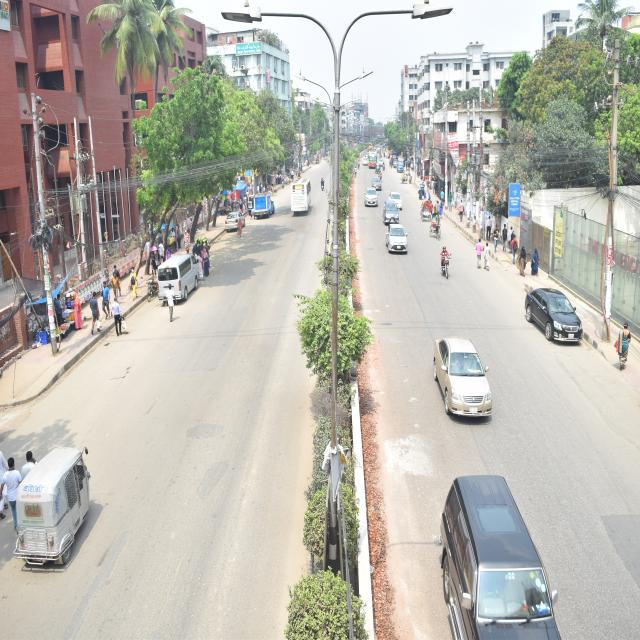bus: (291, 166, 313, 232), (368, 152, 379, 170)
car: (417, 455, 604, 640), (420, 320, 527, 446), (503, 274, 617, 378), (144, 237, 213, 323), (379, 222, 415, 264), (227, 197, 251, 250), (386, 186, 406, 214), (363, 186, 379, 216), (383, 198, 398, 228), (372, 174, 386, 199)
motorbike: (437, 240, 458, 293), (320, 174, 325, 197)
pickup-van: (242, 188, 282, 229)
